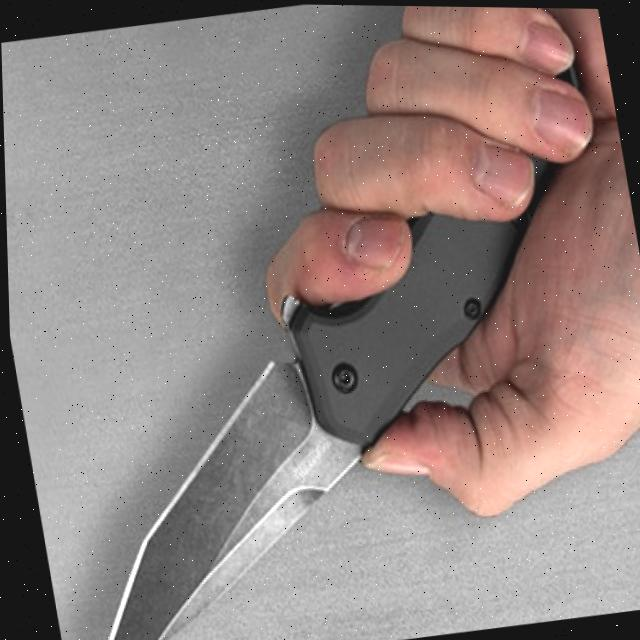knife: (20, 191, 596, 640)
